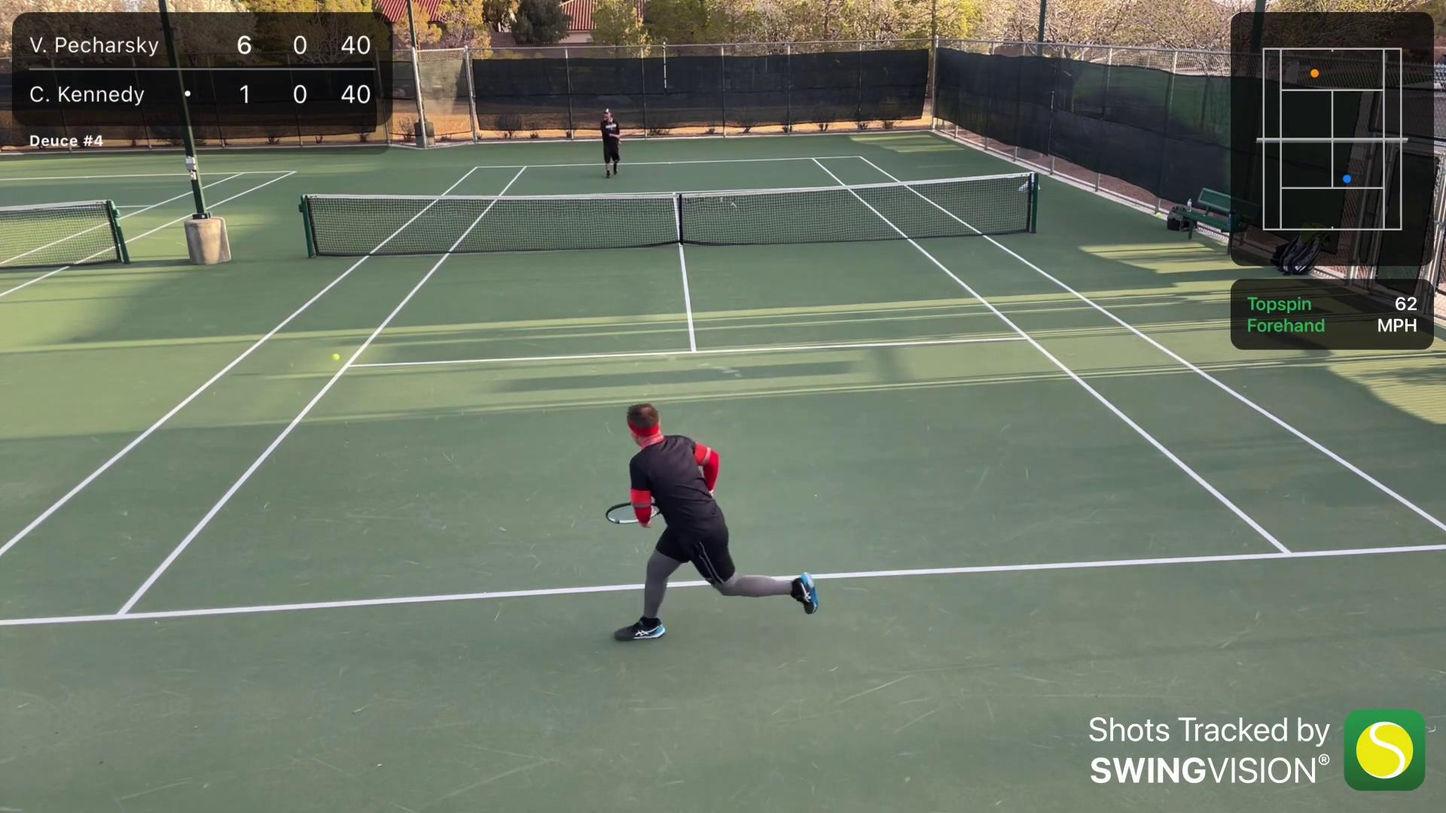ball: (331, 352, 342, 362)
